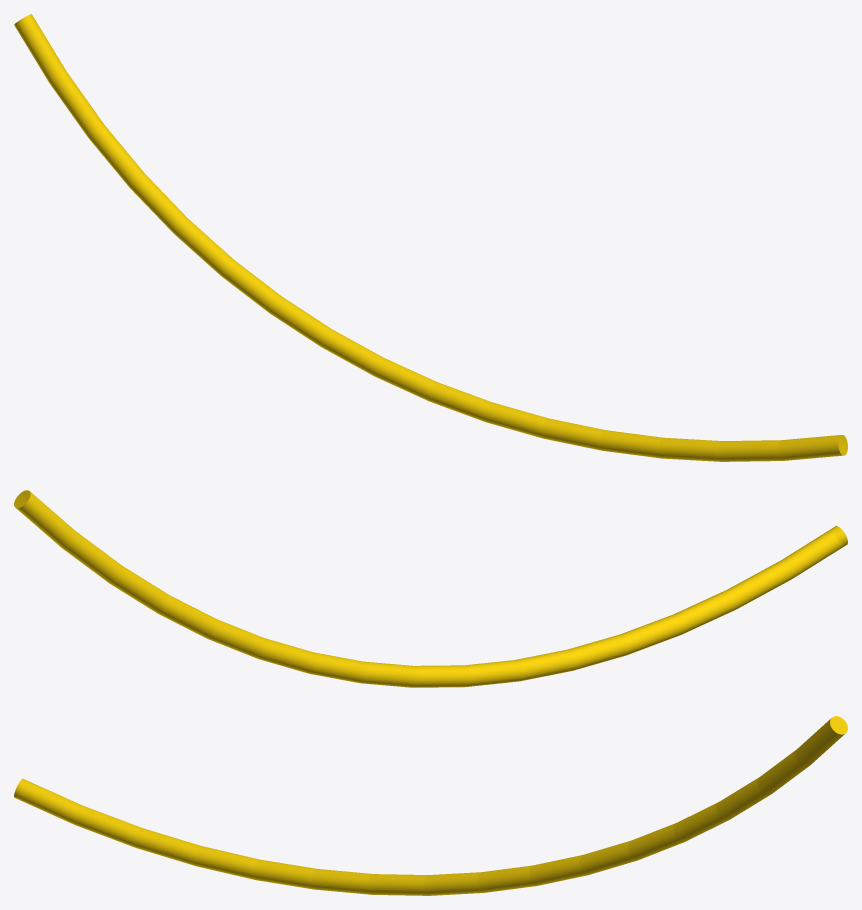
Rendered from Event_421364160_track_82.fbx.
3 views of the same model, one above another, from view 1: azimuth 90°, elevation 25°; view 2: azimuth 150°, elevation 25°; view 3: azimuth 270°, elevation 25° (orthographic). The views are drawn at different scales.
Visible parts, largest first — view 1: Model; view 2: Model; view 3: Model.
Part boxes in pixels (bbox=[...]): Model: bbox=[14, 14, 847, 461]; Model: bbox=[14, 490, 847, 687]; Model: bbox=[14, 716, 847, 895].
Size of the model in its own units: 0.8542 by 0.6285 by 1.59.
